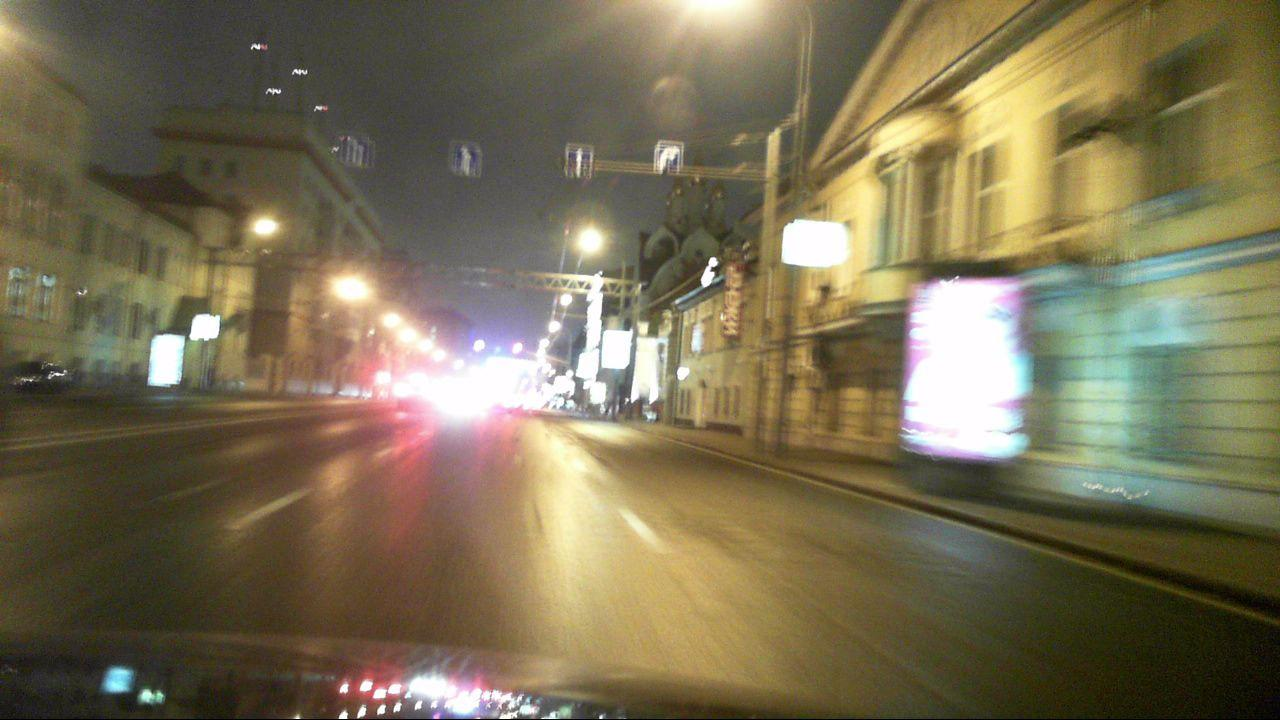5_15_2: (339, 131, 374, 167), (453, 140, 483, 180), (567, 144, 596, 181), (655, 142, 683, 170)
